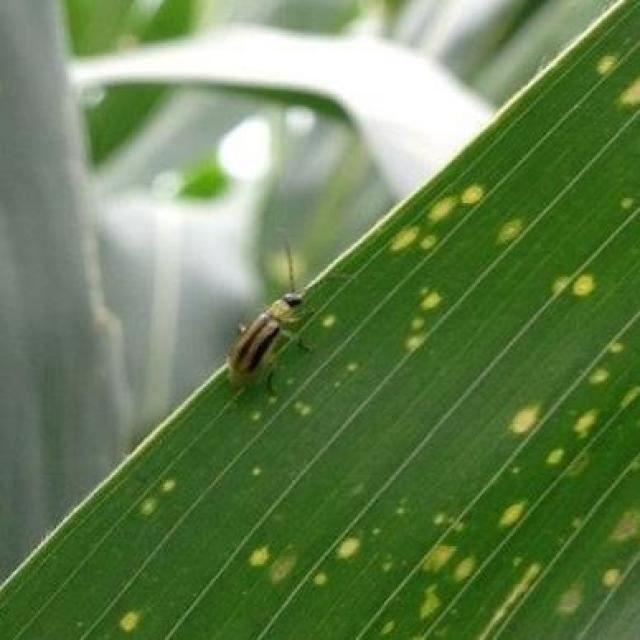trips: (228, 240, 312, 398)
